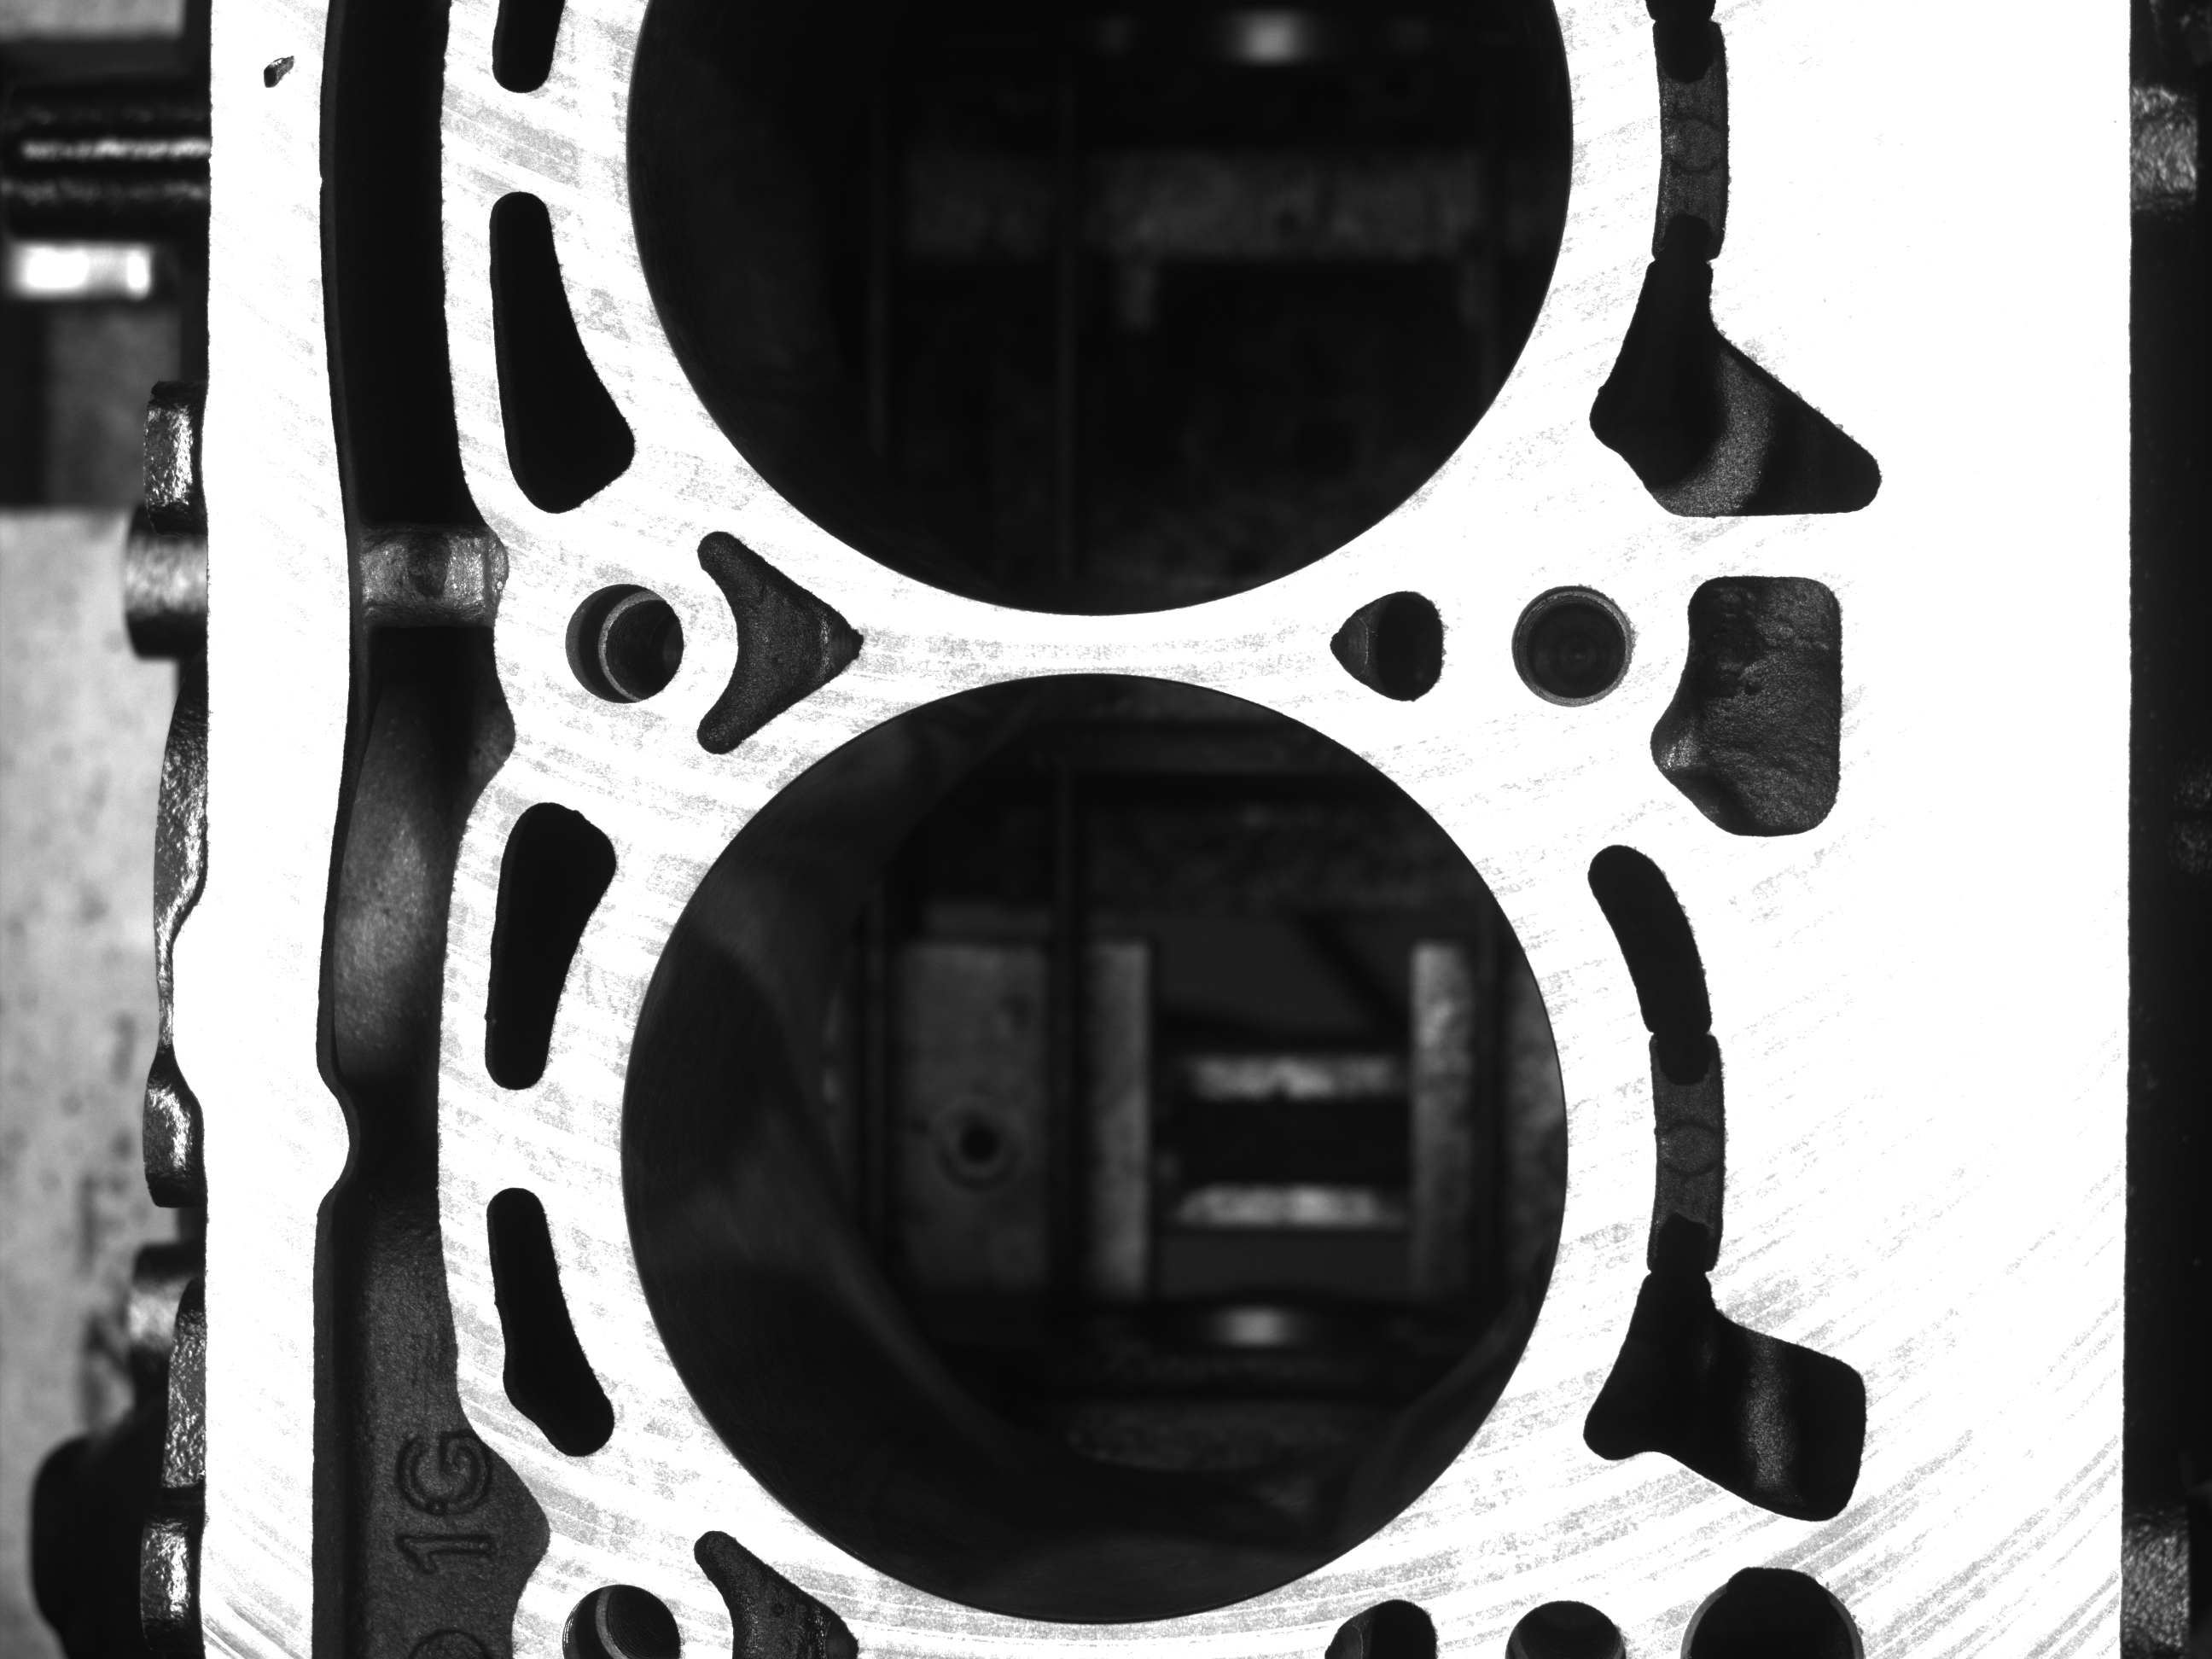sandhole: (253, 42, 293, 94)
